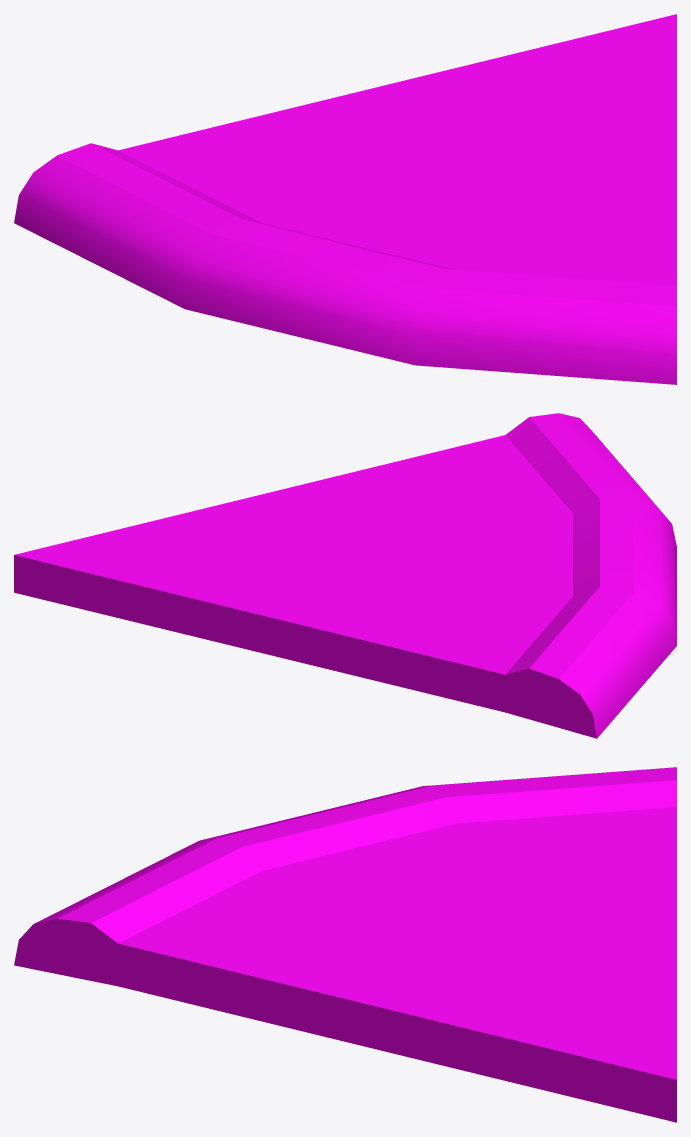
Rendered from umgebung_pizza_stueck_low.FBX.
3 renders of one model, top to bottom at view 1: azimuth 30°, elevation 25°; view 2: azimuth 150°, elevation 25°; view 3: azimuth 270°, elevation 25°, orthographic. The views are drawn at different scales.
Parts seen in each view (by area): view 1: o_pizza_stueck_low; view 2: o_pizza_stueck_low; view 3: o_pizza_stueck_low.
Boxes of the visible parts, x1=… form: o_pizza_stueck_low: x1=14, y1=14, x2=676, y2=384; o_pizza_stueck_low: x1=14, y1=413, x2=676, y2=738; o_pizza_stueck_low: x1=14, y1=767, x2=676, y2=1122.
Bounding box in the file's own units: 24.52 × 21.24 × 2.16.
